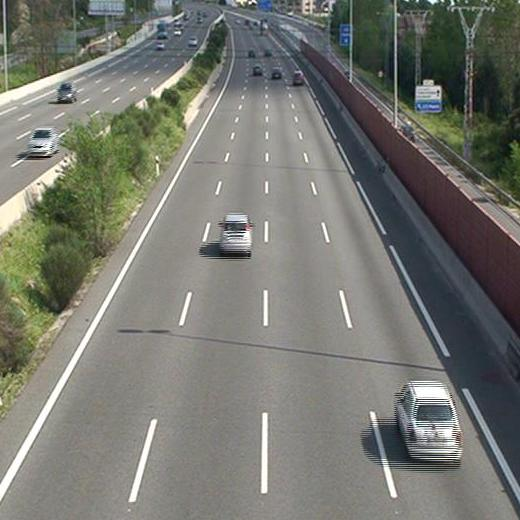car: (393, 380, 464, 464), (216, 213, 254, 255), (291, 71, 304, 85), (269, 65, 282, 79), (252, 65, 262, 77)
